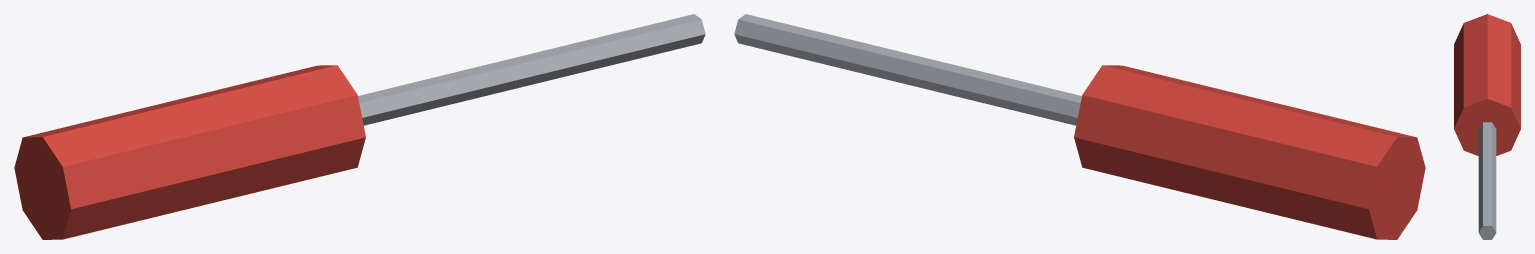
File: screwdriver.glb
3 renders of one model, left to right at view 1: azimuth 30°, elevation 25°; view 2: azimuth 150°, elevation 25°; view 3: azimuth 270°, elevation 25°, orthographic. The views are drawn at different scales.
Parts seen in each view (by area): view 1: screwdriver; view 2: screwdriver; view 3: screwdriver.
Part boxes in pixels (x1=…): screwdriver: x1=14, y1=14, x2=705, y2=239; screwdriver: x1=734, y1=14, x2=1425, y2=239; screwdriver: x1=1454, y1=14, x2=1520, y2=239.
Bounding box in the file's own units: 0.2 × 0.03 × 0.03.
1 material, 1 textured.
